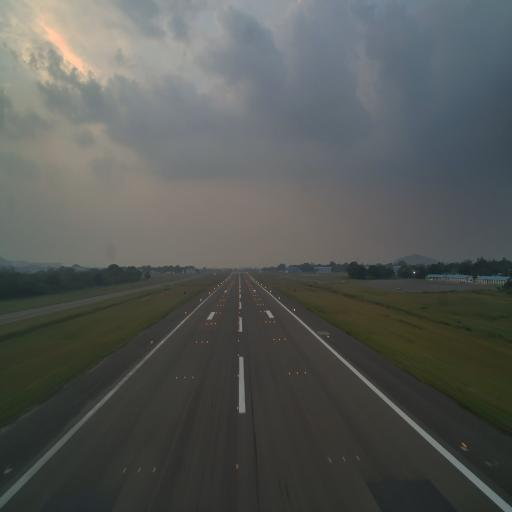off: (2, 459, 14, 481)
on: (458, 434, 468, 455), (119, 463, 128, 474), (326, 457, 333, 466), (152, 465, 157, 477), (354, 453, 360, 462), (340, 456, 348, 462), (137, 465, 141, 476), (235, 462, 239, 470), (236, 371, 240, 378), (326, 333, 330, 340), (175, 374, 178, 381), (304, 369, 307, 376), (150, 339, 153, 345), (191, 374, 194, 380), (288, 370, 291, 376), (200, 341, 204, 345), (183, 375, 186, 380), (237, 404, 239, 411), (237, 352, 240, 356), (297, 370, 299, 376), (195, 340, 198, 344), (273, 337, 275, 342), (278, 337, 280, 342), (206, 340, 208, 344), (238, 339, 240, 343), (284, 337, 286, 341)
